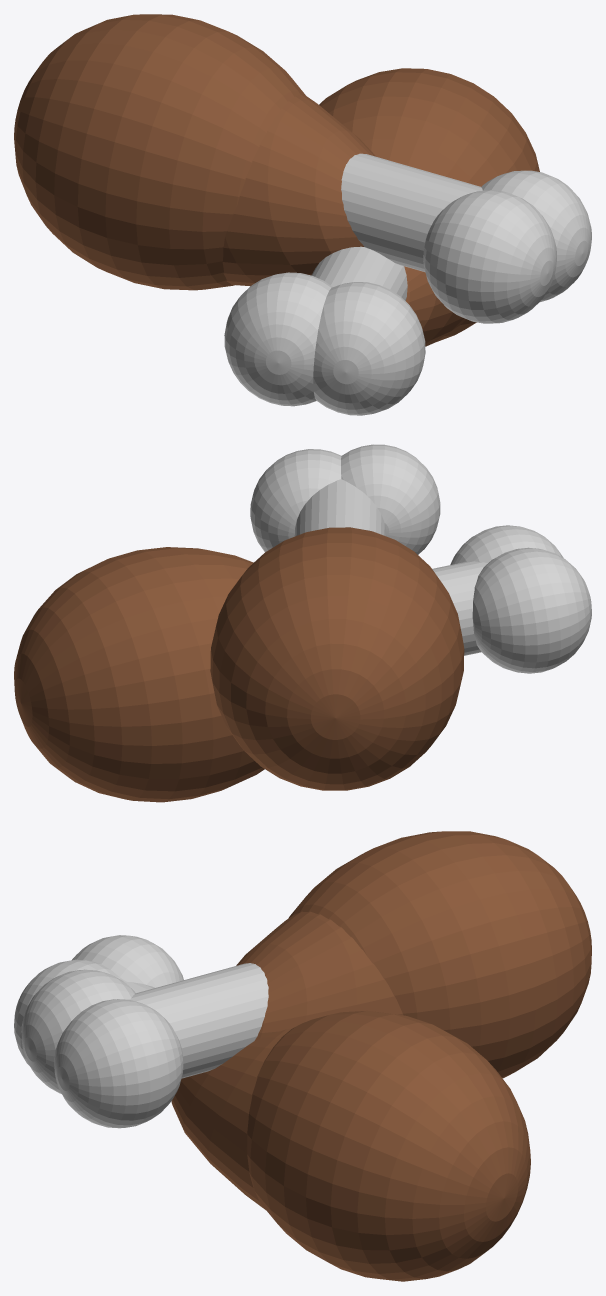
The model's file is food_3_fried_chicken.fbx.
3 views of the same model, one above another, from view 1: azimuth 30°, elevation 25°; view 2: azimuth 150°, elevation 25°; view 3: azimuth 270°, elevation 25° (orthographic). The views are drawn at different scales.
Visible parts, largest first — view 1: food_fried_chicken; view 2: food_fried_chicken; view 3: food_fried_chicken.
Boxes of the visible parts, left/top/right/bottom form: food_fried_chicken: left=14, top=14, right=591, bottom=415; food_fried_chicken: left=14, top=444, right=591, bottom=802; food_fried_chicken: left=14, top=831, right=591, bottom=1281.
Bounding box in the file's own units: 64.13 × 43.93 × 71.74.
